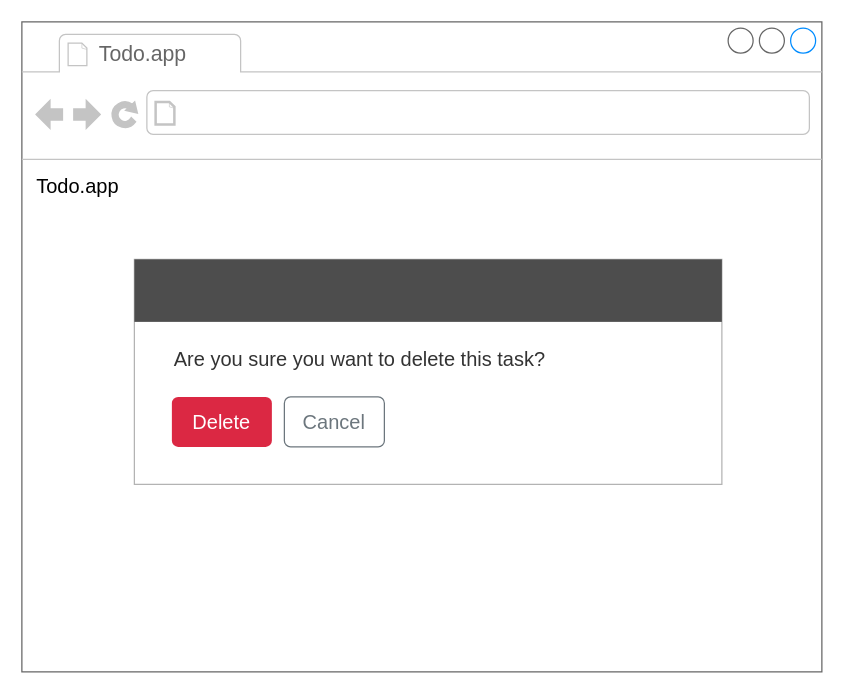
The diagram is 844 pixels wide and 694 high, and some of its shapes have lost their labels. The shapes that lost their labels are listed below. From the top down, each one's centre as x and y in pixels, then its label:
At point 340,112: "https://todo.app/task/delete/1".
At point 427,290: "Delete task".
